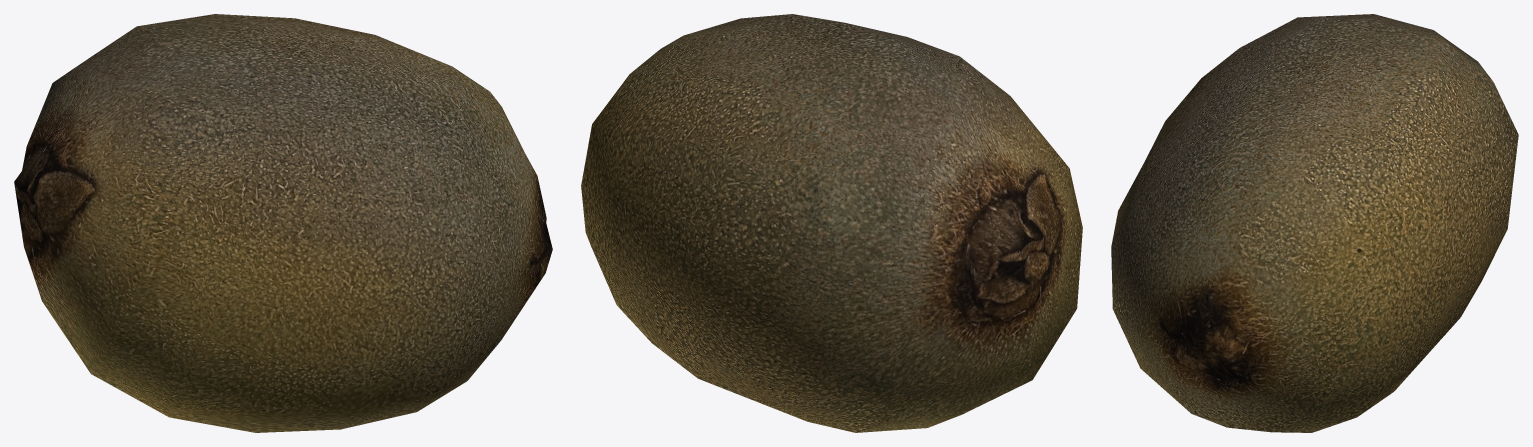
The model's file is A117_Kiwi_low.fbx.
3 renders of one model, left to right at view 1: azimuth 30°, elevation 25°; view 2: azimuth 150°, elevation 25°; view 3: azimuth 270°, elevation 25°, orthographic. The views are drawn at different scales.
Parts seen in each view (by area): view 1: A117_Kiwi_low; view 2: A117_Kiwi_low; view 3: A117_Kiwi_low.
Part boxes in pixels (x1=…): A117_Kiwi_low: x1=14, y1=14, x2=552, y2=432; A117_Kiwi_low: x1=581, y1=14, x2=1082, y2=432; A117_Kiwi_low: x1=1111, y1=14, x2=1518, y2=432.
Size of the model in its own units: 4.67 by 3.94 by 3.6.
1 material, 1 textured.
